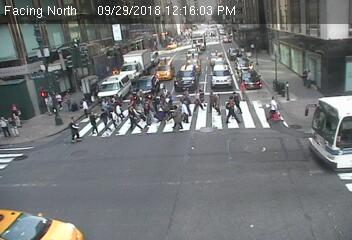car: (306, 96, 352, 174), (97, 73, 132, 97), (118, 50, 152, 74), (173, 70, 201, 91), (133, 75, 157, 97), (212, 65, 234, 87), (238, 71, 264, 89), (155, 62, 171, 79), (238, 56, 253, 73), (191, 34, 206, 48), (186, 58, 201, 71), (228, 48, 244, 59), (210, 51, 223, 63), (185, 49, 199, 59), (166, 40, 179, 50), (149, 49, 156, 63), (224, 36, 234, 43), (218, 29, 228, 36)
